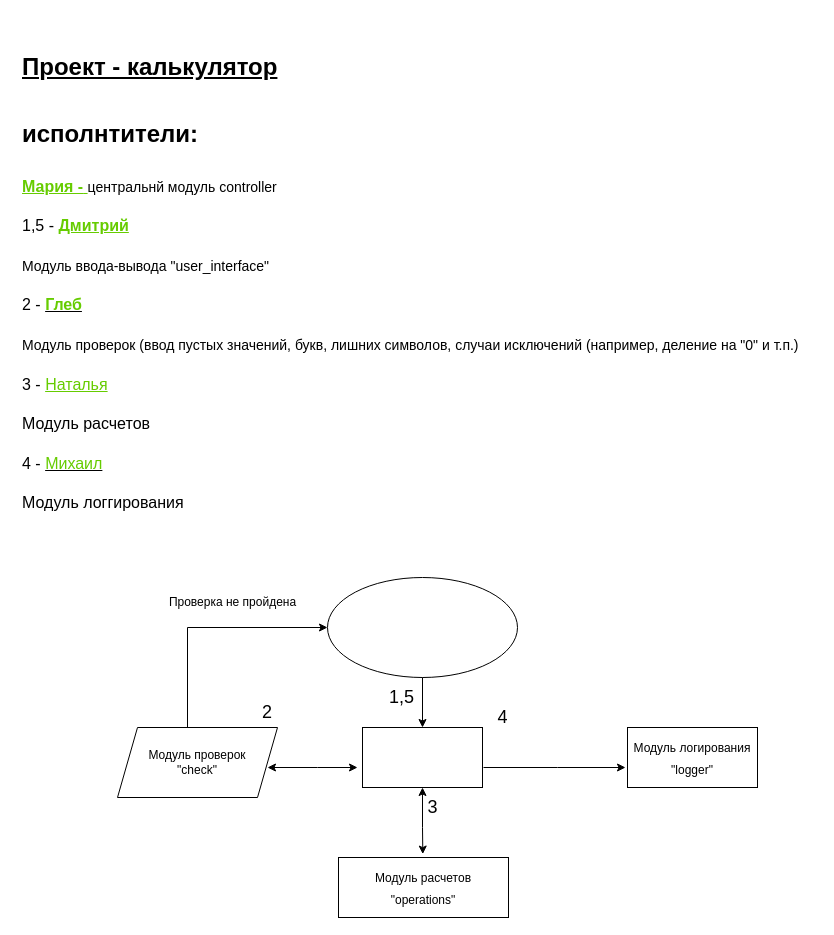
This 834x935 diagram has some shape labels left out. The shapes that lost their labels are listed below. From the top down, each one's centre as x and y in pixels, then its label:
(x=422, y=627): Модуль ввода-вывода "user_interface"
(x=422, y=757): Контроллер "controller"
